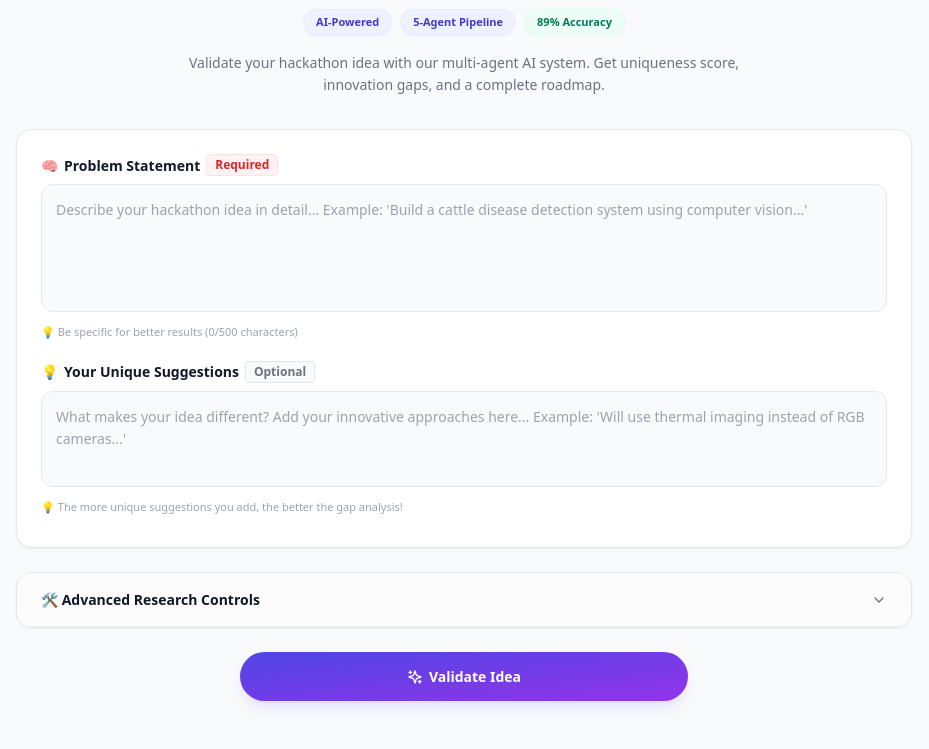
Test: IdeaValidator Component Tests › displays language routing description
The width and height of the screenshot is (929, 749).
(page scrolled)
// Expand advanced settings to render language routing description
Click the button "🛠️ Advanced Research Controls" at (150, 600), box [17, 573, 911, 627]
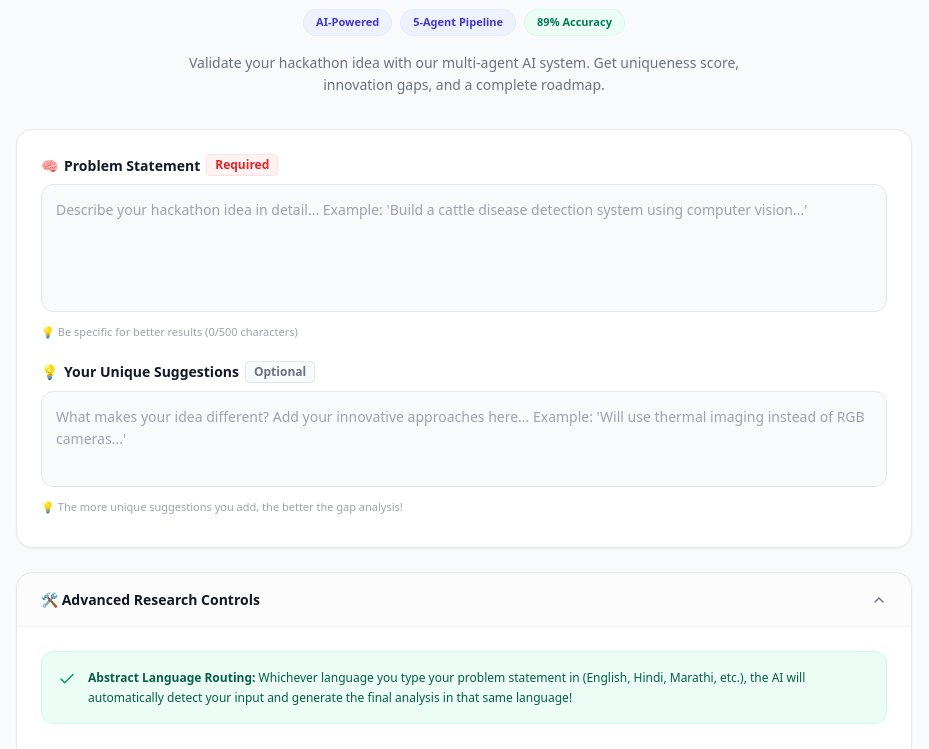
expect the text "English, Hindi, Marathi" is shown: met, box [88, 669, 805, 706]
